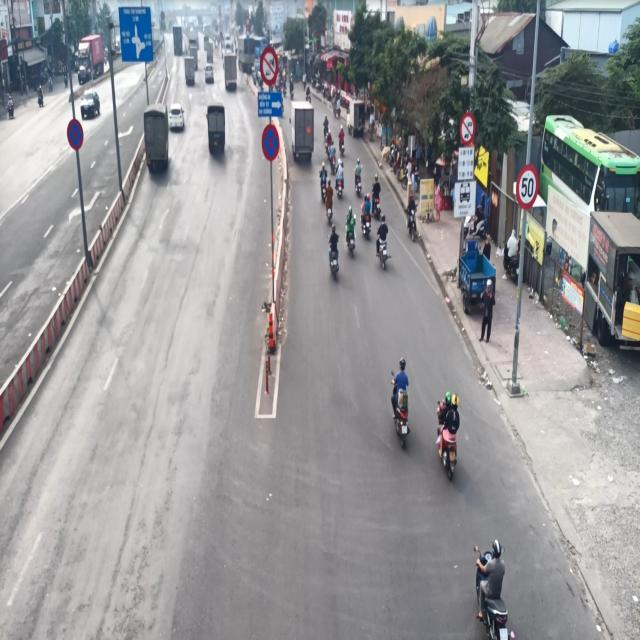car: (169, 101, 185, 138)
motor: (471, 528, 512, 640), (387, 353, 413, 469), (432, 382, 463, 479)
truck: (140, 107, 169, 184), (288, 101, 318, 167), (208, 98, 228, 167)
